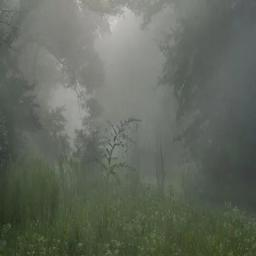Heavy smoke: (15, 0, 256, 208)
